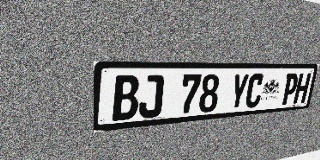7: (178, 74, 202, 115)
8: (198, 74, 221, 113)
B: (112, 75, 140, 121)
C: (244, 74, 265, 108)
H: (293, 73, 311, 104)
J: (138, 75, 164, 119)
P: (280, 73, 299, 105)
Y: (228, 74, 250, 110)
